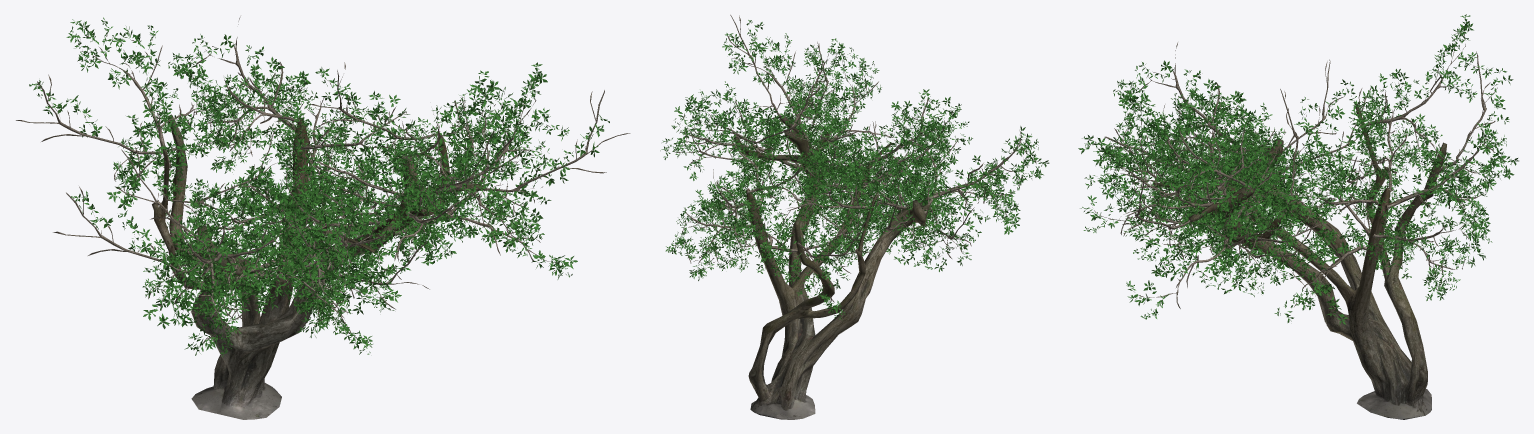
File: village-pbr-island_tree_02.glb
3 renders of one model, left to right at view 1: azimuth 30°, elevation 25°; view 2: azimuth 150°, elevation 25°; view 3: azimuth 270°, elevation 25°, orthographic. The views are drawn at different scales.
Parts seen in each view (by area): view 1: island_tree_02_LOD0; view 2: island_tree_02_LOD0; view 3: island_tree_02_LOD0.
Part boxes in pixels (box(x1,y1,x2,y2)): island_tree_02_LOD0: box(16, 16, 630, 419); island_tree_02_LOD0: box(660, 14, 1049, 419); island_tree_02_LOD0: box(1078, 14, 1518, 419).
Bounding box in the file's own units: 4.21 × 3.41 × 4.07.
Materials: 3 (3 with a texture image).
